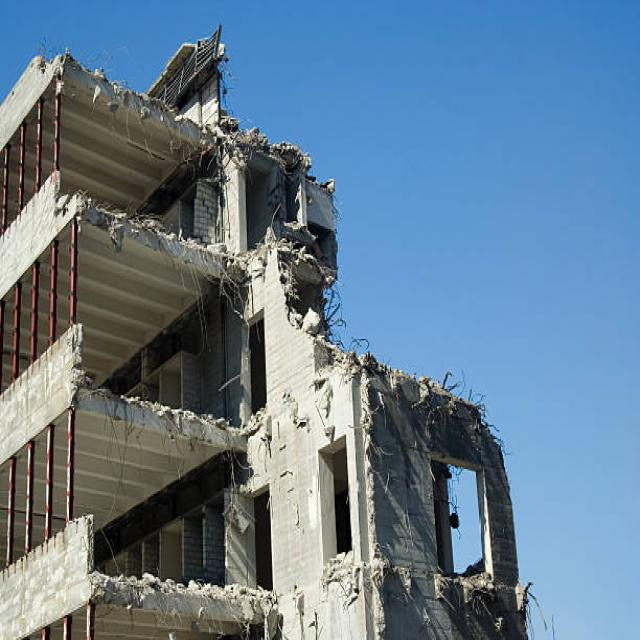Destroyed_building: (4, 0, 560, 640)
